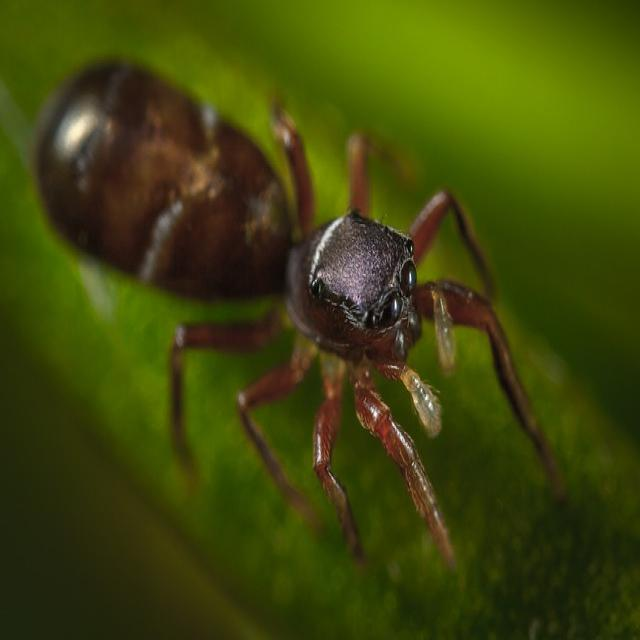spyder: (32, 62, 564, 566), (171, 309, 282, 448)
